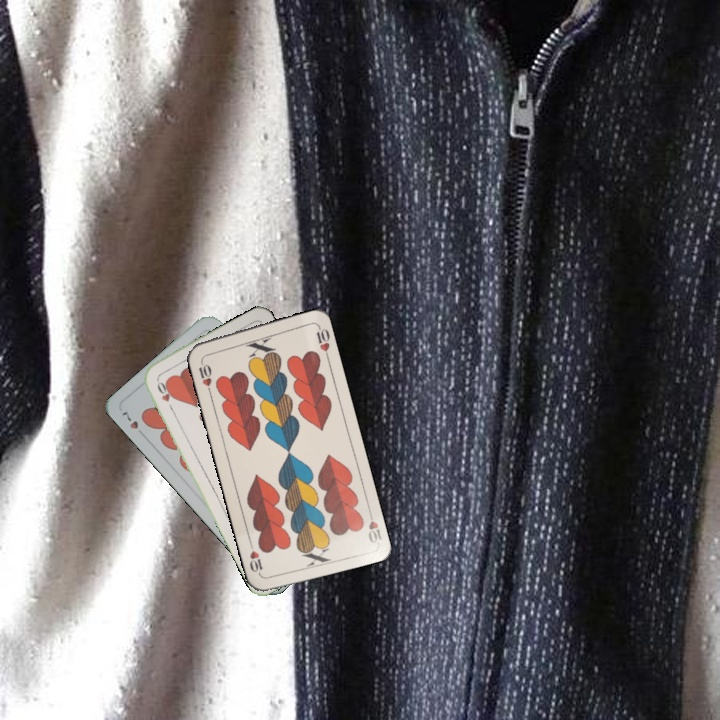H10: (364, 505, 384, 546), (194, 355, 214, 395)
H7: (117, 407, 148, 439)
HO: (152, 375, 176, 414)
